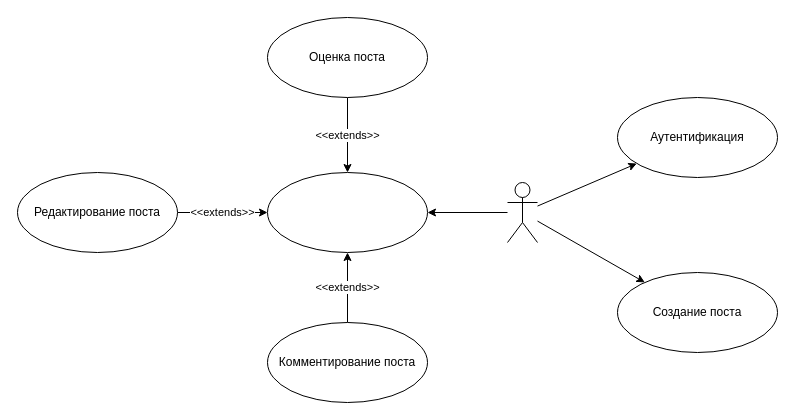
This 795x420 diagram has some shape labels left out. Each missing label, with the centre of its shape:
"User" goes at [522,212].
"Просмотр постов" goes at [347,212].
